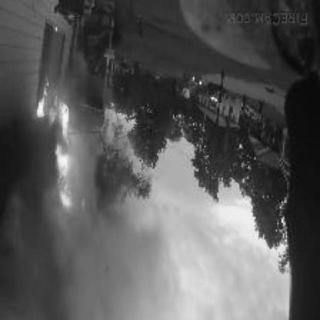Fire: (24, 79, 102, 215)
Smoke: (6, 228, 136, 316)
other: (175, 84, 237, 116)
